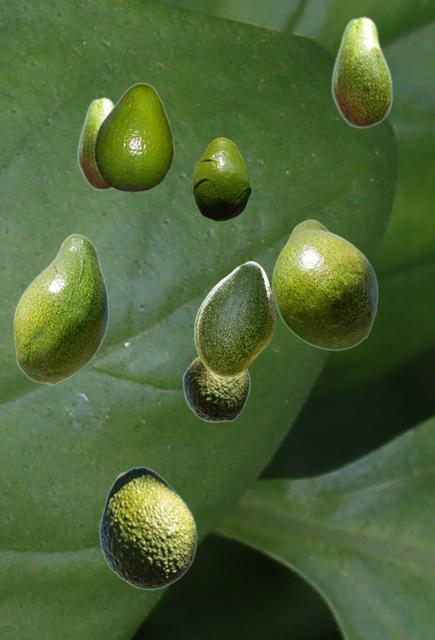avocado: (13, 233, 108, 384), (271, 219, 377, 350), (98, 466, 196, 589), (194, 261, 274, 376), (93, 82, 173, 190), (331, 15, 392, 128), (192, 137, 250, 220), (182, 356, 249, 421), (77, 96, 115, 190)
